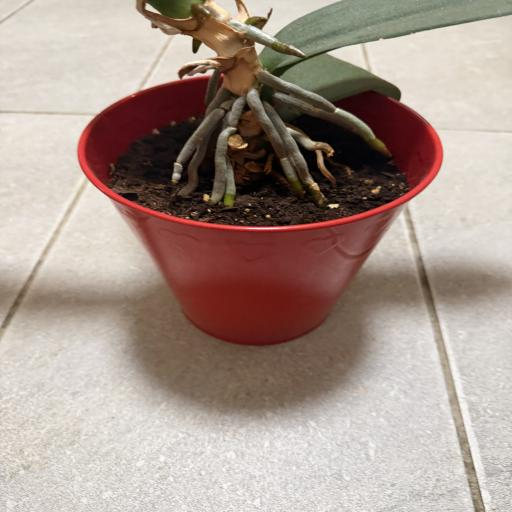Plant Pot: (76, 73, 443, 344)
